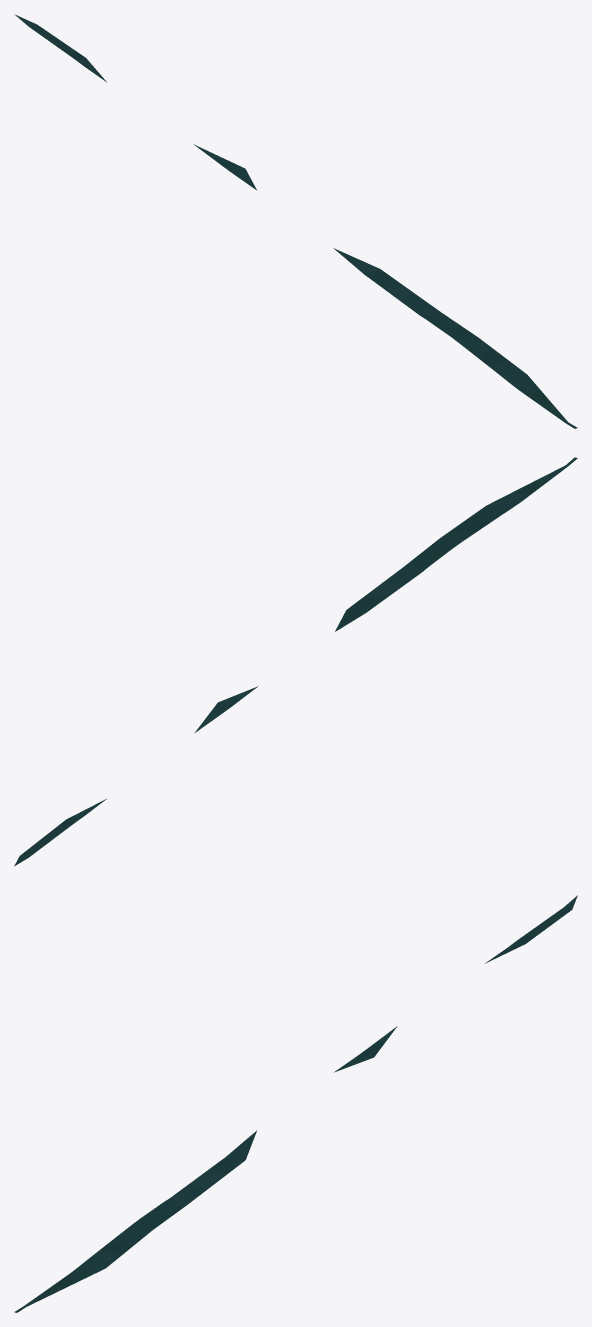
The picture shows the model from 3 angles, top to bottom: view 1: azimuth 30°, elevation 25°; view 2: azimuth 150°, elevation 25°; view 3: azimuth 330°, elevation 25°; orthographic projection.
Size of the model in its own units: 1.06 by 0.367 by 47.02.
Materials: 1 (1 with a texture image).
